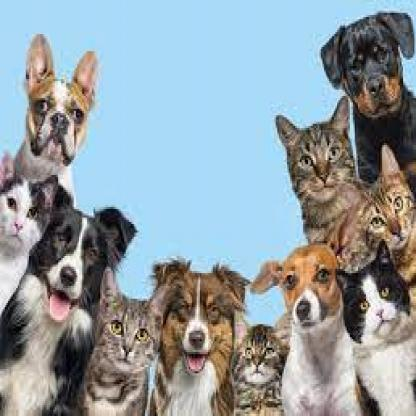dog: (23, 200, 145, 328), (147, 243, 237, 416), (19, 30, 110, 179), (280, 229, 352, 413), (316, 5, 416, 127)
